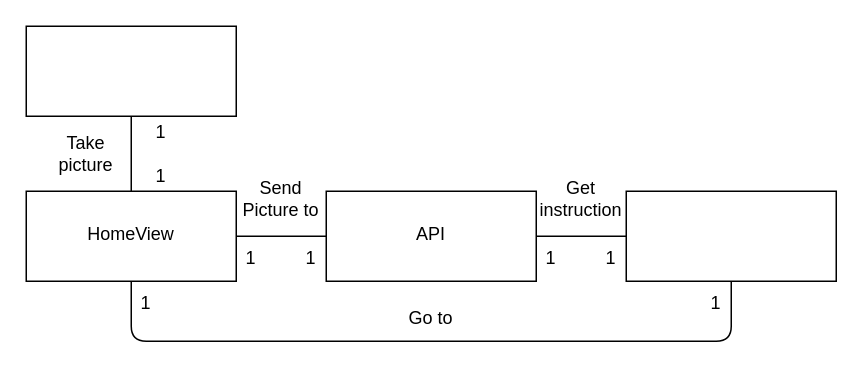
This 863x369 diagram has some shape labels left out. The centre of each missing label's shape, as x and y in pixels:
CameraView: the point at 130,70
NextMoveView: the point at 730,235
